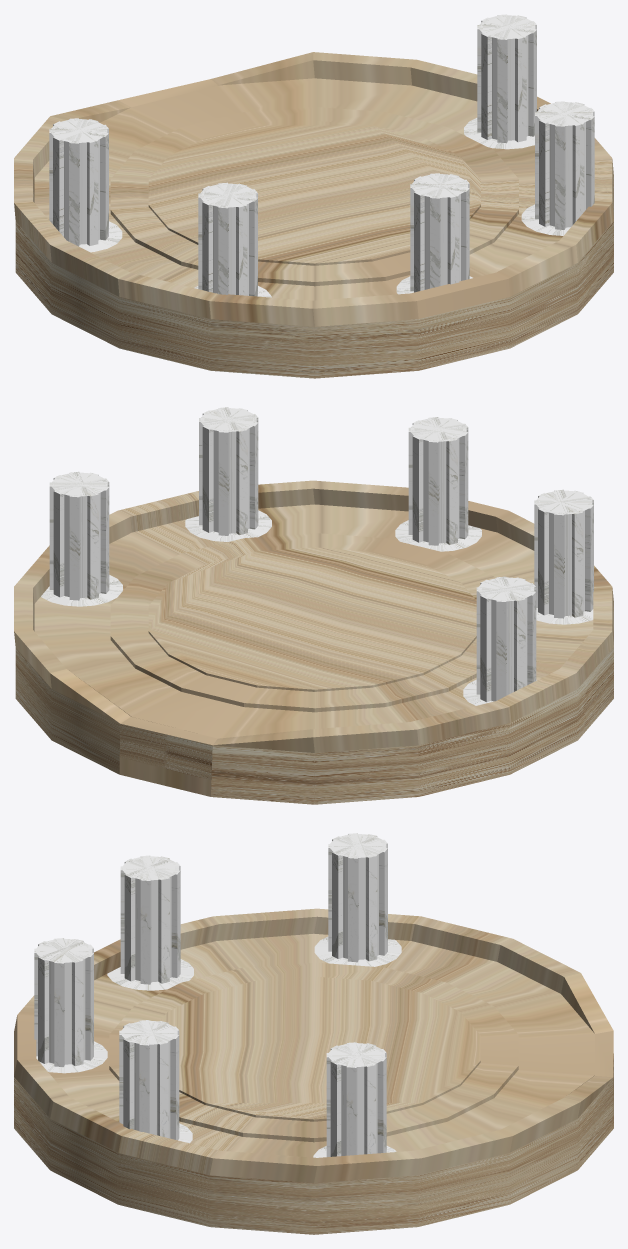
Rendered from birthplace.FBX.
3 renders of one model, top to bottom at view 1: azimuth 30°, elevation 25°; view 2: azimuth 150°, elevation 25°; view 3: azimuth 270°, elevation 25°, orthographic.
Parts seen in each view (by area): view 1: Cylinder002, Cylinder009, Cylinder010, Cylinder008, Cylinder004, Cylinder011; view 2: Cylinder002, Cylinder004, Cylinder009, Cylinder008, Cylinder011, Cylinder010; view 3: Cylinder002, Cylinder011, Cylinder010, Cylinder004, Cylinder008, Cylinder009.
Part boxes in pixels (bbox=[...]): Cylinder002: bbox=[14, 52, 613, 378]; Cylinder009: bbox=[464, 14, 536, 149]; Cylinder010: bbox=[49, 118, 122, 252]; Cylinder008: bbox=[521, 101, 594, 235]; Cylinder004: bbox=[396, 173, 472, 294]; Cylinder011: bbox=[194, 182, 271, 297]; Cylinder002: bbox=[14, 480, 613, 804]; Cylinder004: bbox=[395, 417, 481, 551]; Cylinder009: bbox=[41, 471, 122, 606]; Cylinder008: bbox=[185, 407, 271, 541]; Cylinder011: bbox=[534, 489, 593, 624]; Cylinder010: bbox=[463, 576, 536, 705]; Cylinder002: bbox=[14, 908, 613, 1234]; Cylinder011: bbox=[107, 855, 193, 990]; Cylinder010: bbox=[314, 833, 401, 966]; Cylinder004: bbox=[34, 938, 107, 1073]; Cylinder008: bbox=[119, 1020, 192, 1143]; Cylinder009: bbox=[313, 1042, 396, 1157].
Bounding box in the file's own units: 160 × 45.1 × 158.
Materials: 2 (2 with a texture image).
